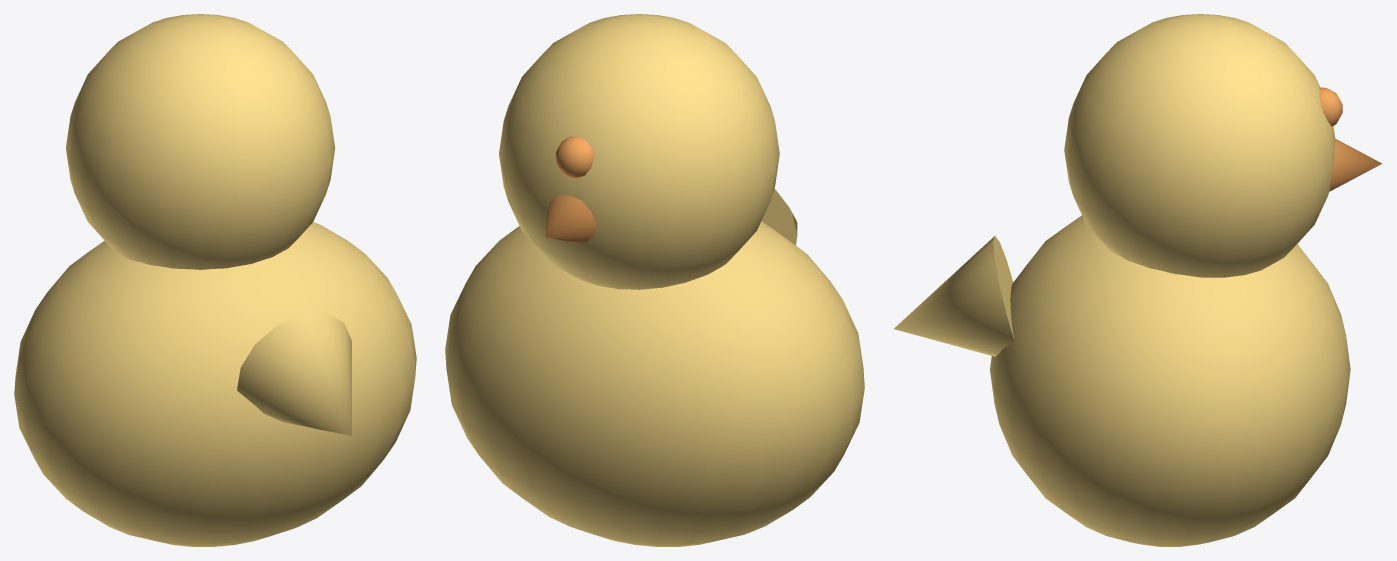
Rendered from zone_pastel_duck.glb.
3 views of the same model, side by side, from view 1: azimuth 30°, elevation 25°; view 2: azimuth 150°, elevation 25°; view 3: azimuth 270°, elevation 25° (orthographic). The views are drawn at different scales.
Visible parts, largest first — view 1: zone_pastel_duck; view 2: zone_pastel_duck; view 3: zone_pastel_duck.
Boxes of the visible parts, box(x1,y1,x2,y2) form: zone_pastel_duck: box(14, 14, 416, 546); zone_pastel_duck: box(445, 14, 864, 546); zone_pastel_duck: box(894, 14, 1382, 546).
Bounding box in the file's own units: 1.39 × 1.81 × 1.61.
